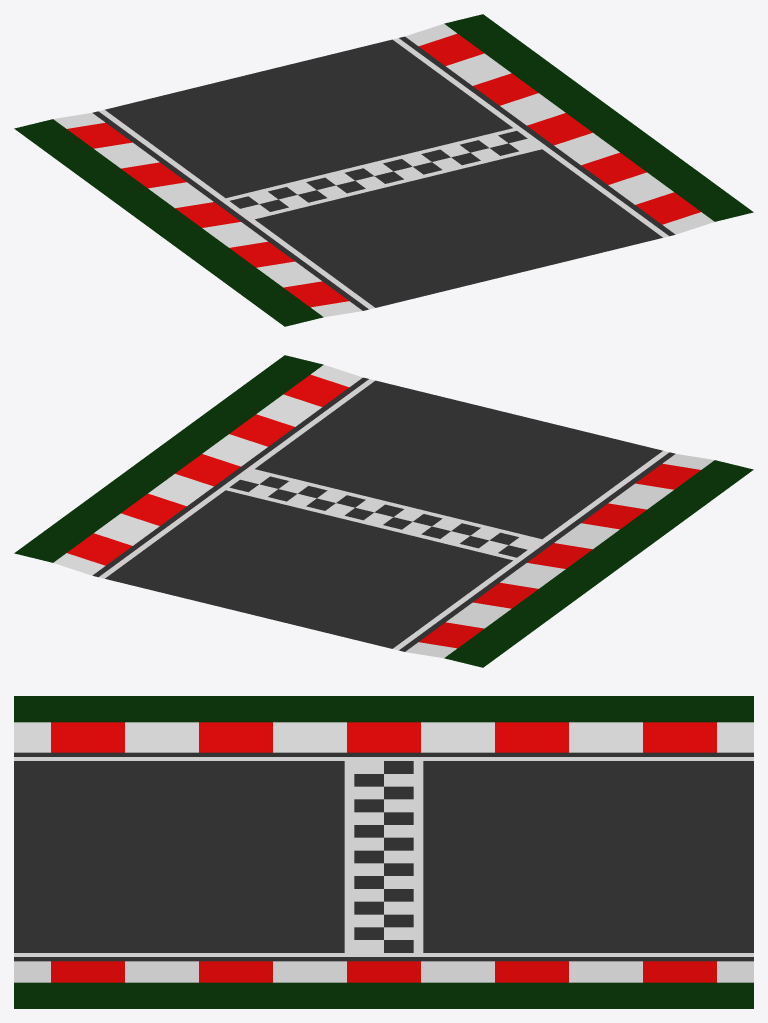
File: ETC0510006.fbx
3 renders of one model, top to bottom at view 1: azimuth 30°, elevation 25°; view 2: azimuth 150°, elevation 25°; view 3: azimuth 270°, elevation 25°, orthographic. The views are drawn at different scales.
Parts seen in each view (by area): view 1: smETC0510006; view 2: smETC0510006; view 3: smETC0510006.
Boxes of the visible parts, x1,y1,x2,y2 form: smETC0510006: (14, 14, 753, 326); smETC0510006: (14, 355, 753, 667); smETC0510006: (14, 696, 753, 1008).
Size of the model in its own units: 1800 by 12 by 1800.
